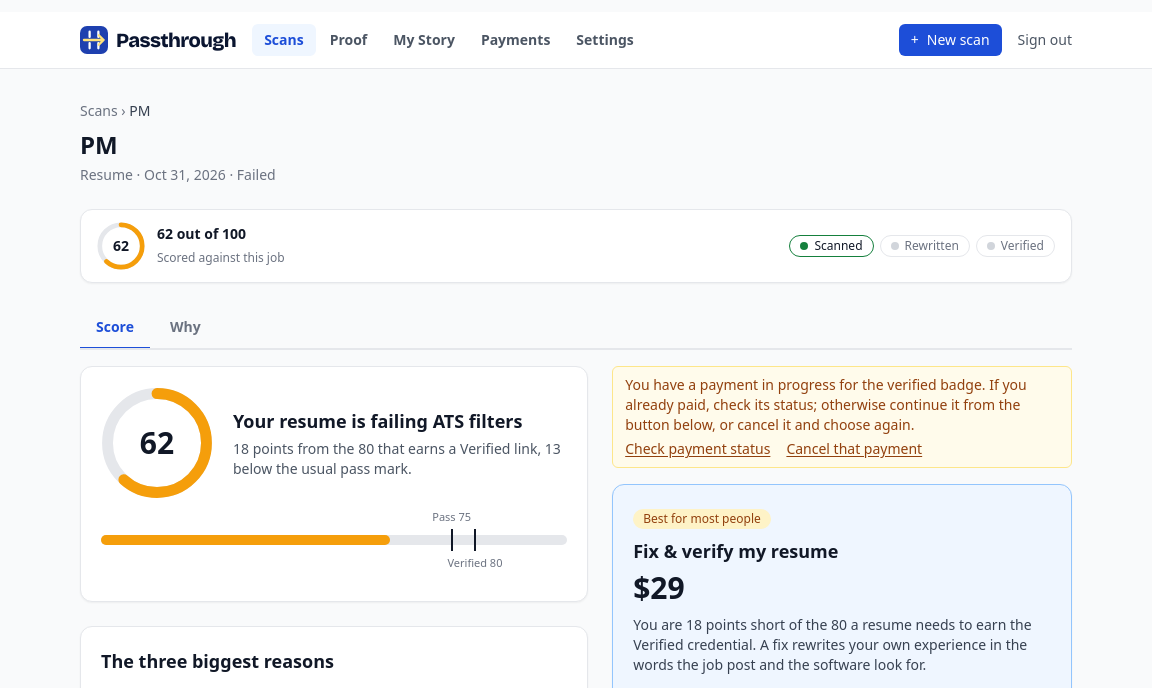
payment flows › a checkout already open: both actions work
Click the button "Check payment status" at (698, 449), box top-left (625, 439), bottom-right (770, 459)
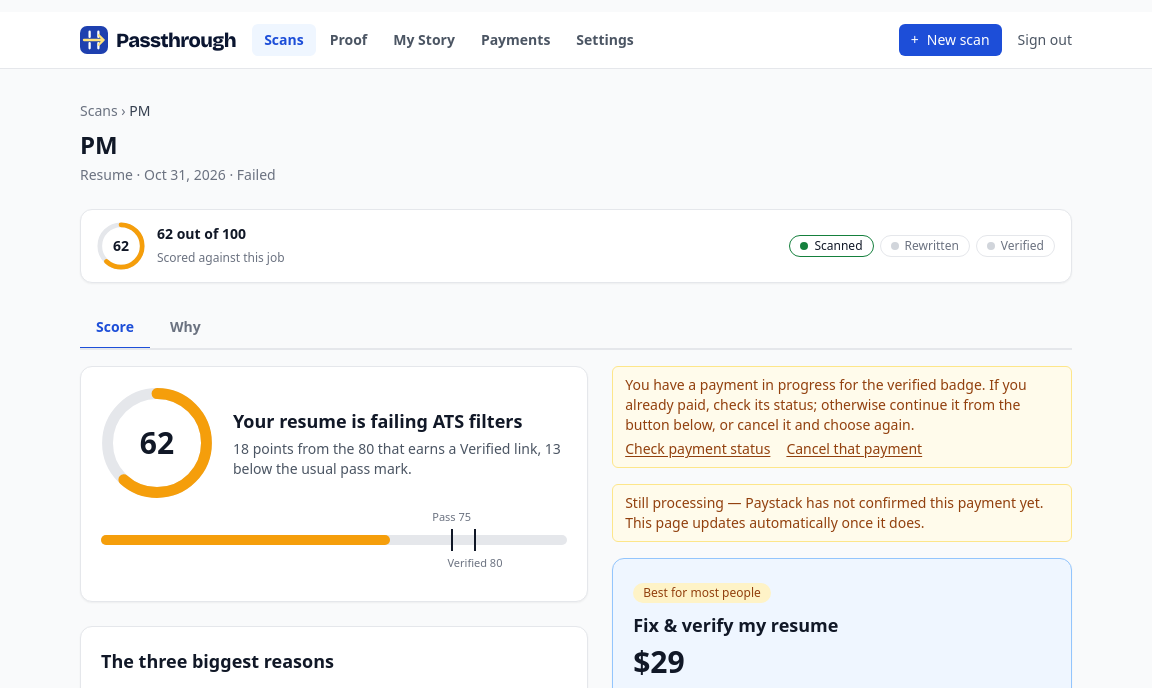
Now the text "Still processing" is shown, box top-left (625, 493), bottom-right (1044, 532)
Click the button "Cancel that payment" at (854, 449), box top-left (786, 439), bottom-right (922, 459)
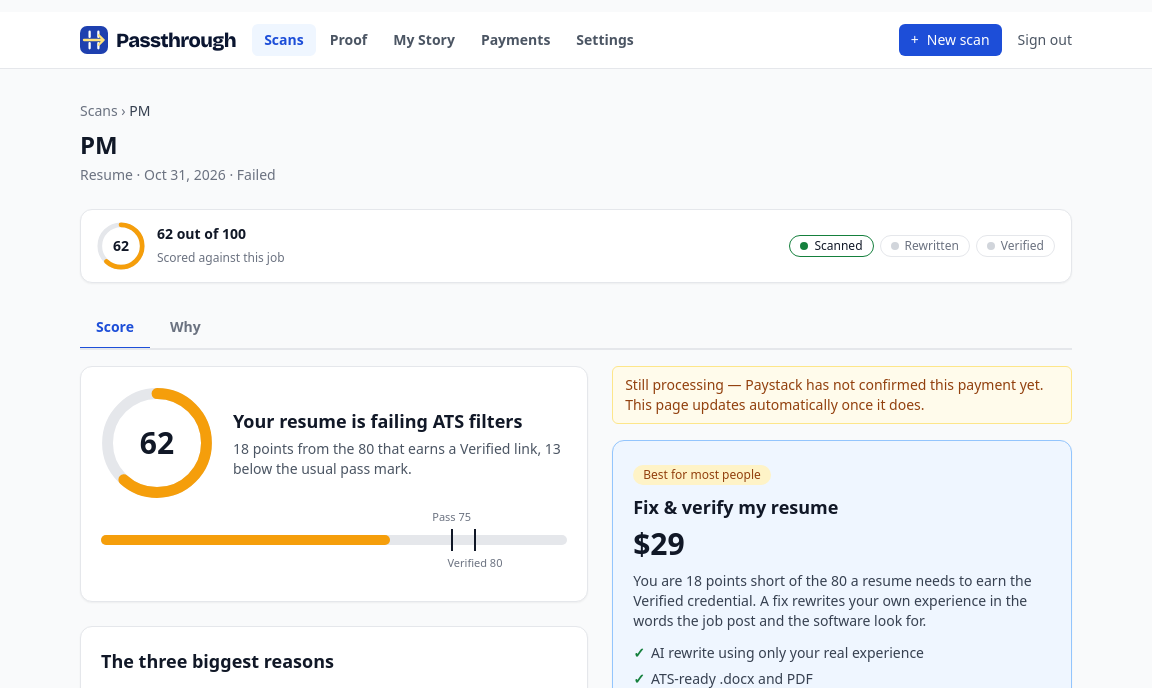
Now the text "payment in progress" is gone
